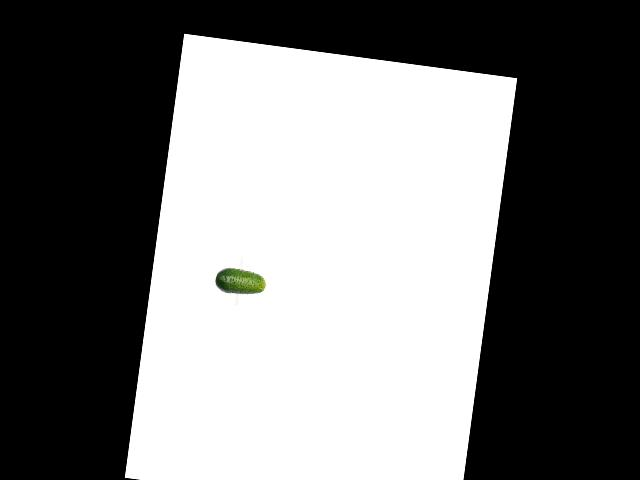cucumber: (213, 265, 267, 297)
